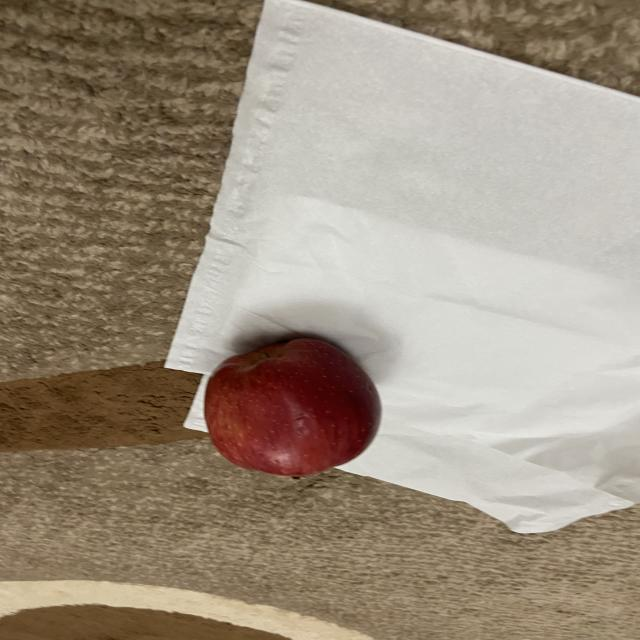apple: (200, 330, 388, 484)
